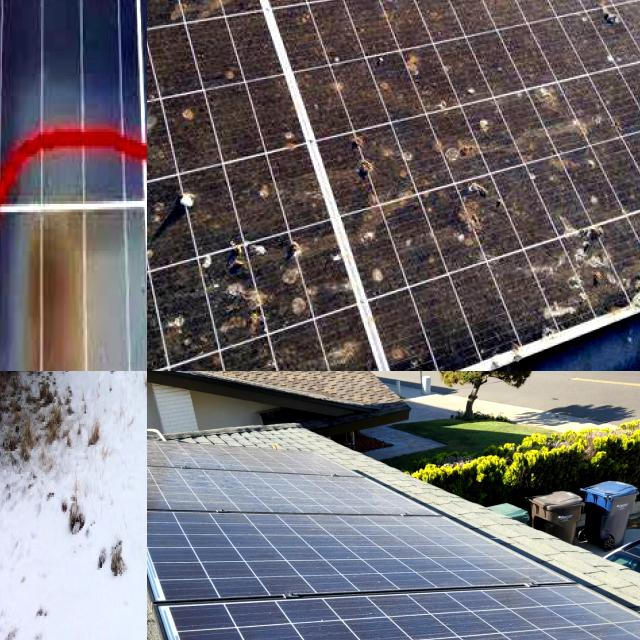bird: (147, 0, 253, 127), (355, 225, 425, 371), (536, 78, 634, 182), (336, 111, 432, 202), (516, 302, 640, 371), (437, 52, 525, 146), (220, 233, 320, 315), (555, 203, 640, 294), (316, 20, 399, 102), (341, 0, 495, 42), (182, 0, 313, 49), (447, 160, 535, 227), (150, 164, 230, 228), (147, 294, 198, 371), (592, 0, 640, 54), (473, 0, 540, 34), (147, 0, 184, 35), (240, 359, 334, 371)
shadow: (0, 197, 147, 371)
